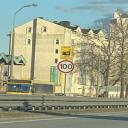speed_limit_100: (56, 59, 78, 74)
